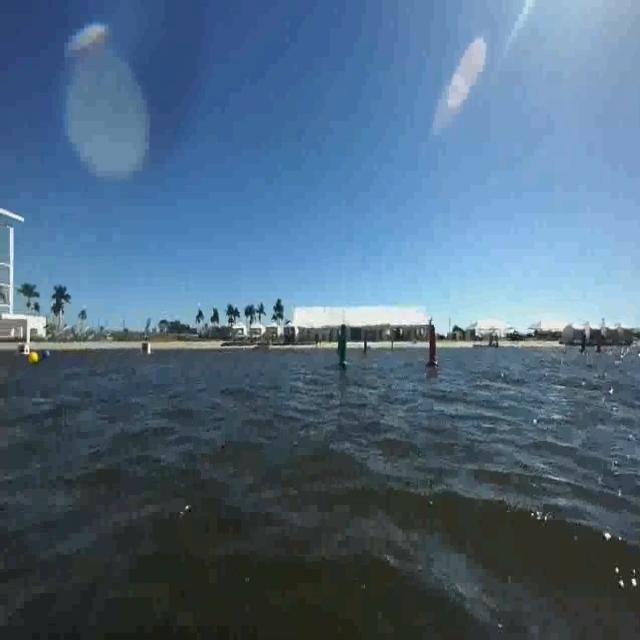green-column-buoy: (336, 325, 352, 370)
red-column-buoy: (425, 330, 440, 370)
yellow-buoy: (30, 350, 40, 366)
